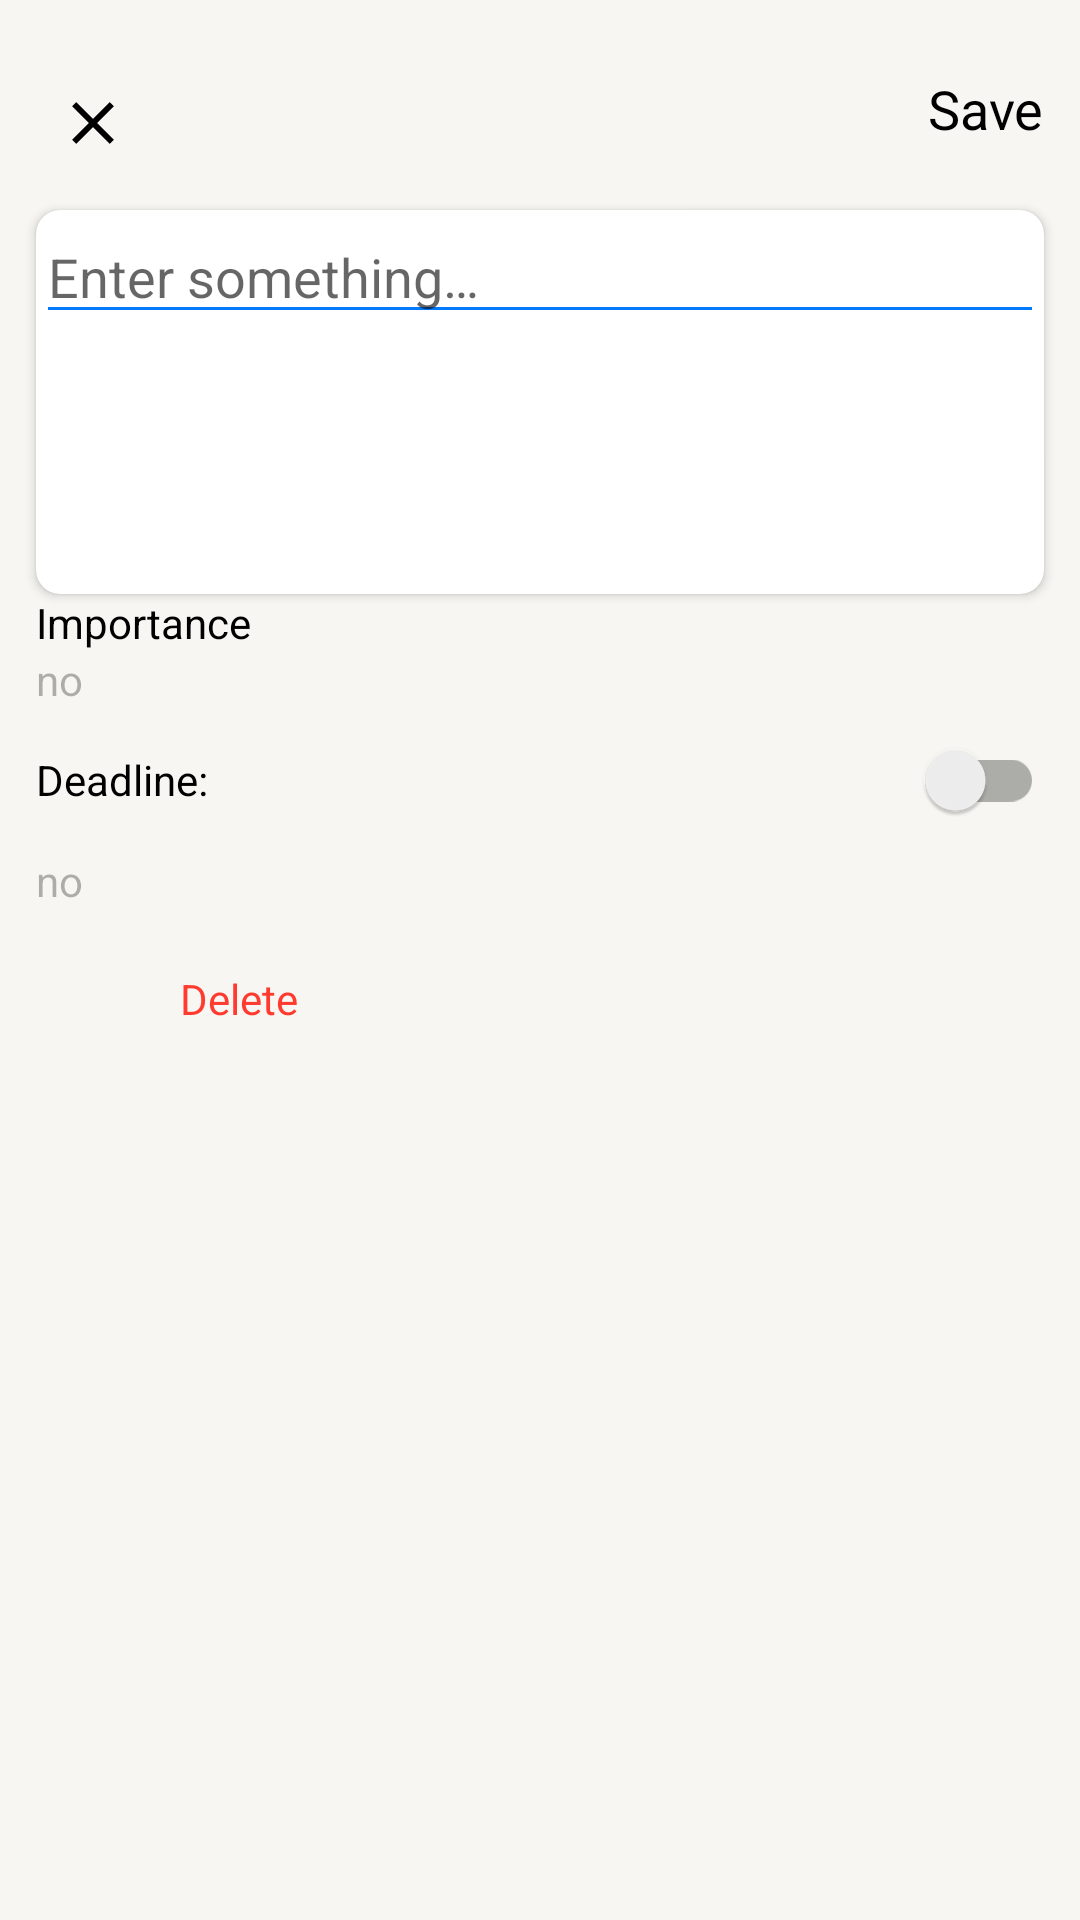

Icon bounding boxes for this 1080 x 1920 phone screenshot, format {"x1": x1, "y1": y1, "x2": x2, "y2": y2}:
Close: {"x1": 72, "y1": 102, "x2": 114, "y2": 144}
